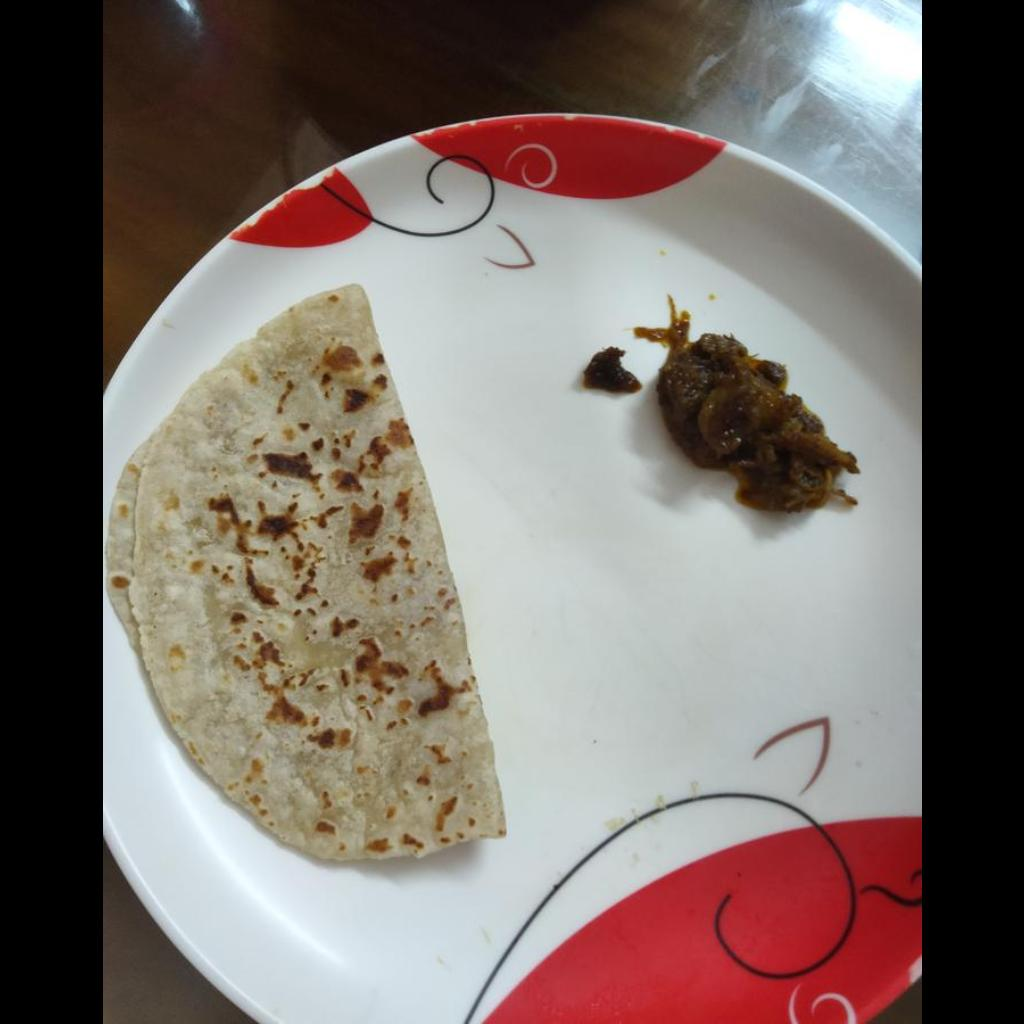achar: (635, 295, 851, 512)
ruti: (104, 277, 502, 862)
